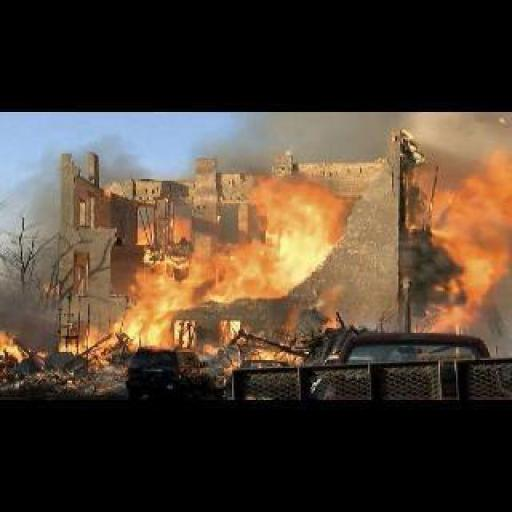smoke: (62, 164, 510, 350)
